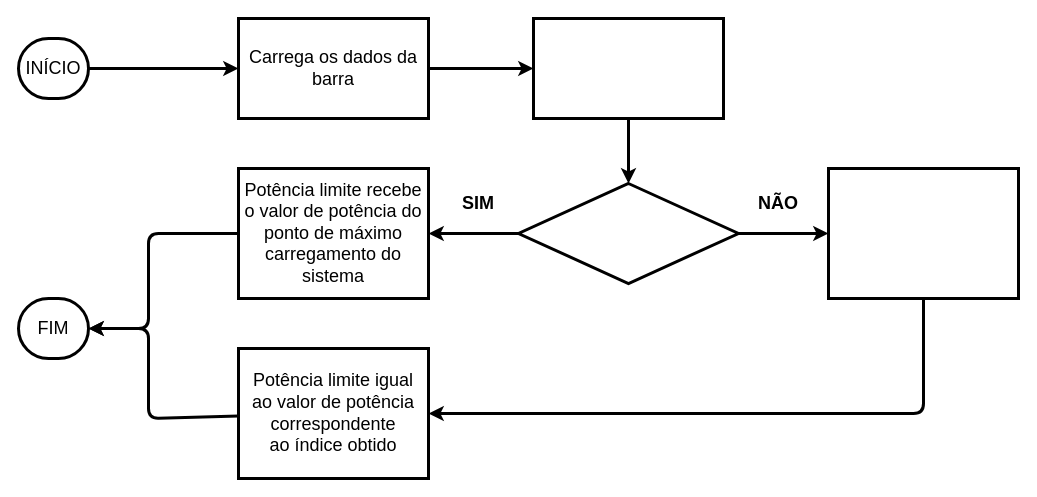
Image size: 1037x497. Some labels were removed from this diagram. Here are the shapes that lost their labels. From the top down, the box of each, then its label:
(532, 16, 724, 120): Filtra os dados para valores de tensão entre 0,95 e 0,96 pu
(516, 182, 740, 284): Dados vazios?
(826, 166, 1020, 300): O índice do menor valor de tensão é coletado.
